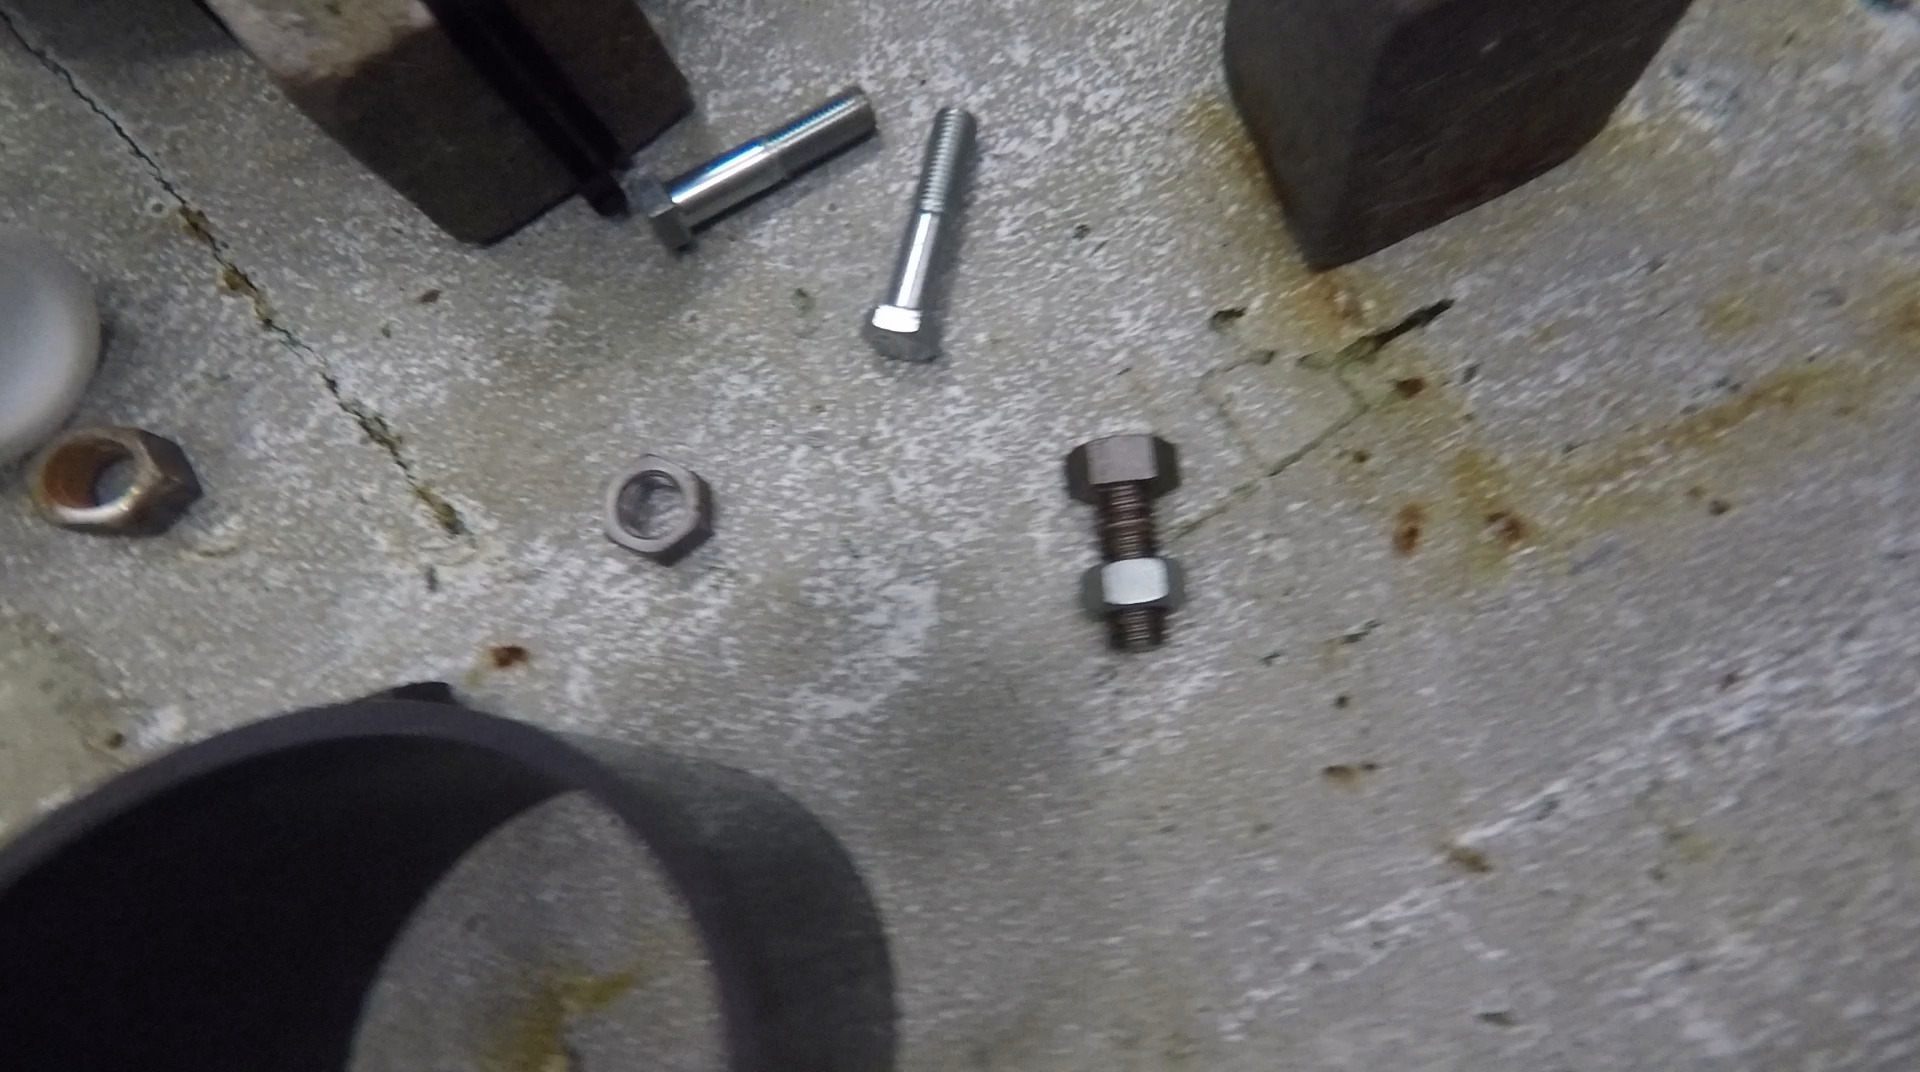bolt: (632, 83, 877, 254), (862, 103, 978, 363), (1065, 432, 1193, 653)
led_block: (1222, 1, 1698, 276), (204, 1, 698, 247)
nut: (25, 423, 203, 535), (597, 450, 715, 567), (1075, 556, 1192, 614)
pipe: (1, 698, 889, 1072), (1, 227, 103, 472)
